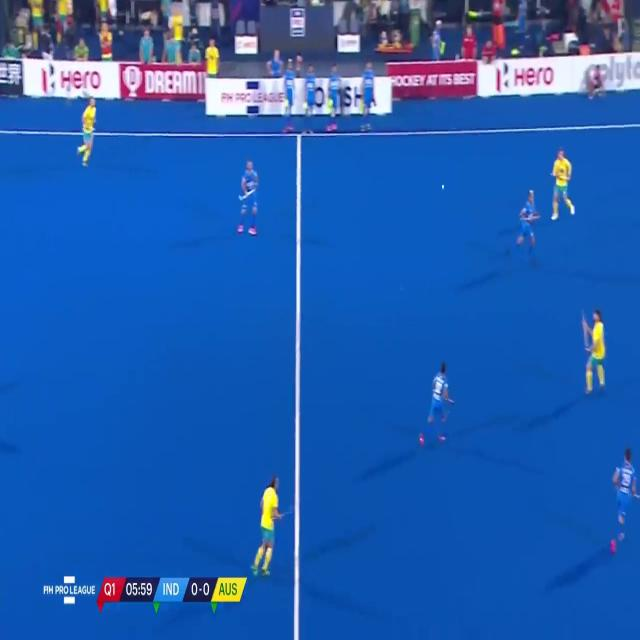ball: (440, 182, 446, 190)
